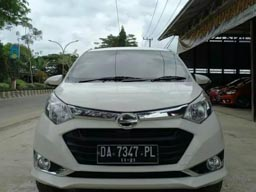plat: (97, 141, 160, 156)
